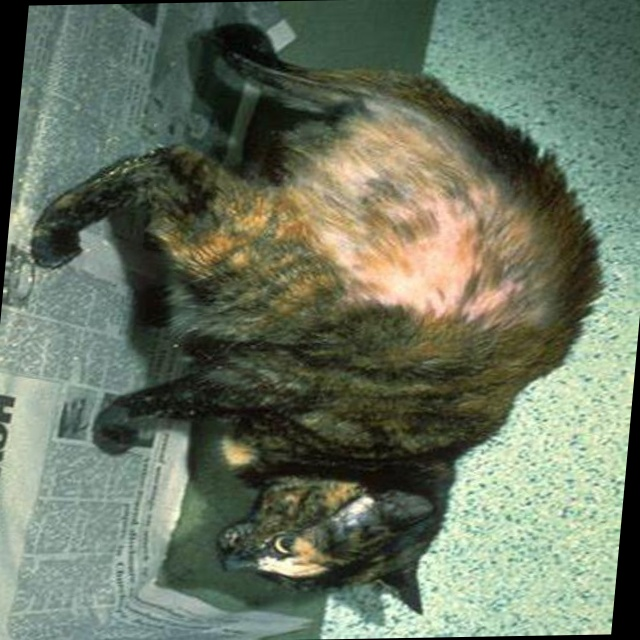hairloss: (334, 96, 534, 306)
